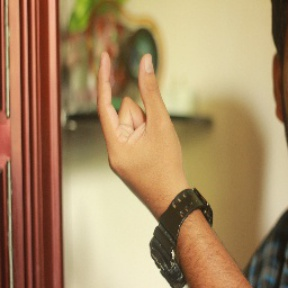U: (88, 45, 180, 180)
